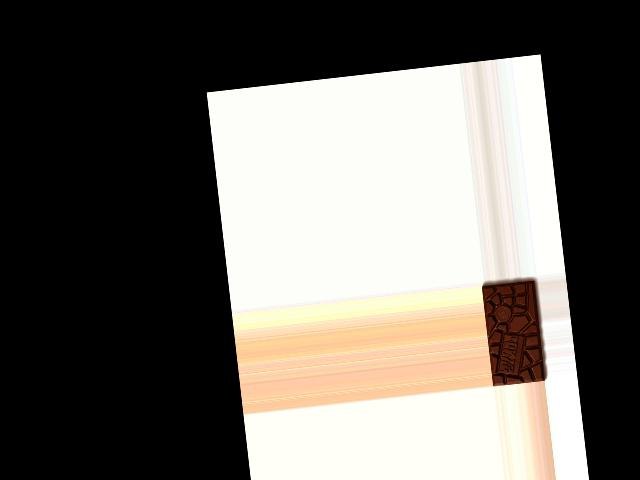chocolate: (481, 278, 548, 387)
